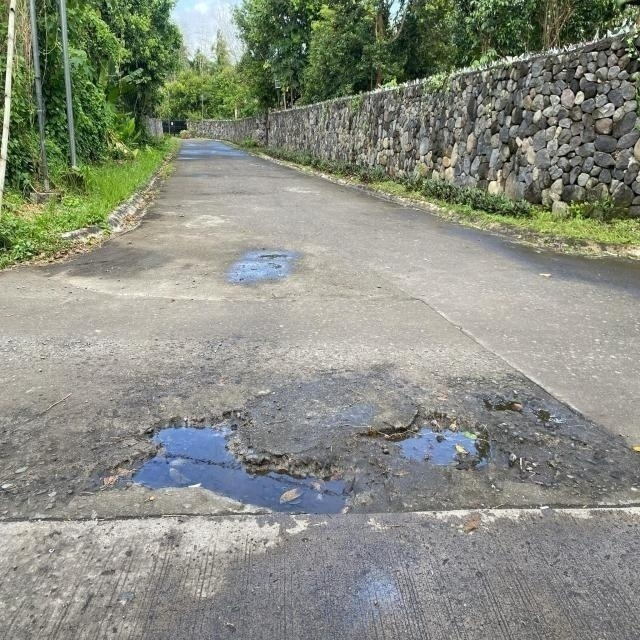pothole: (136, 398, 500, 536)
